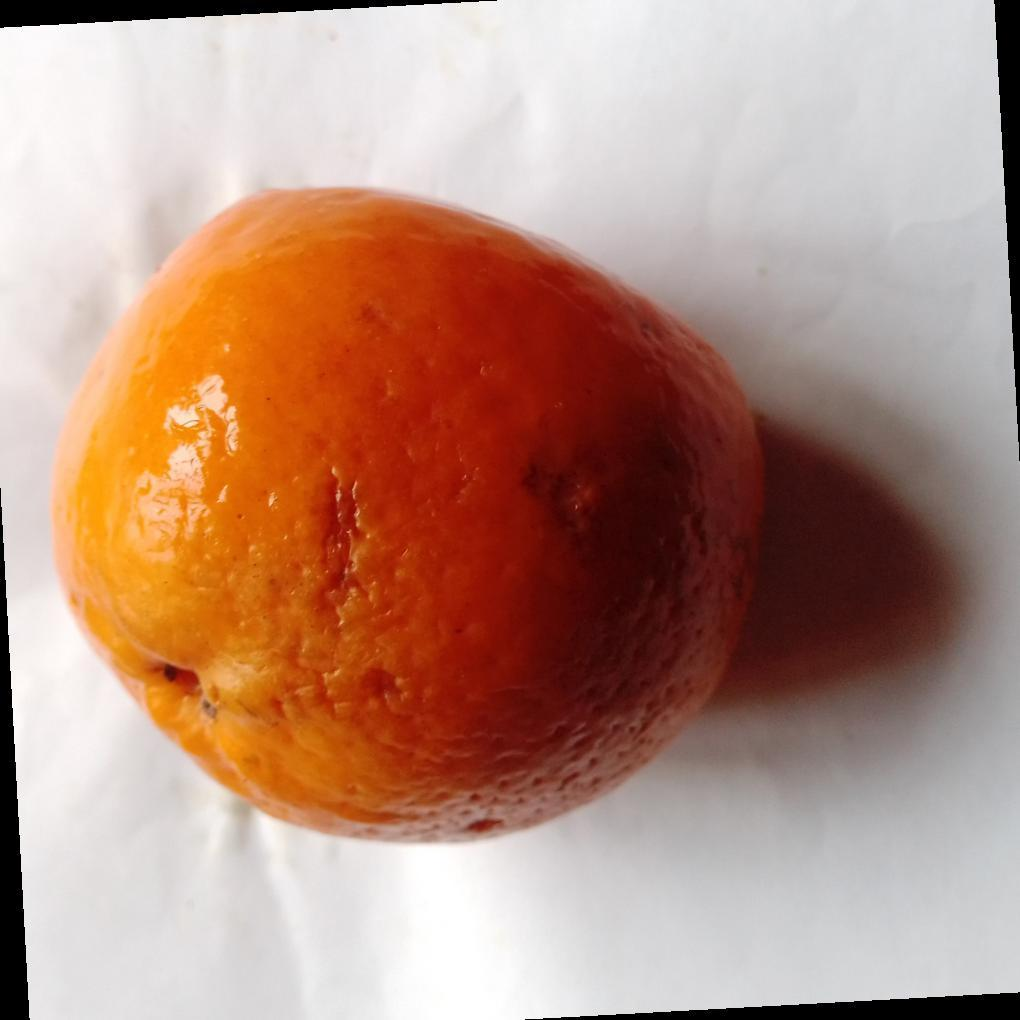FreshOrange: (50, 187, 769, 847)
